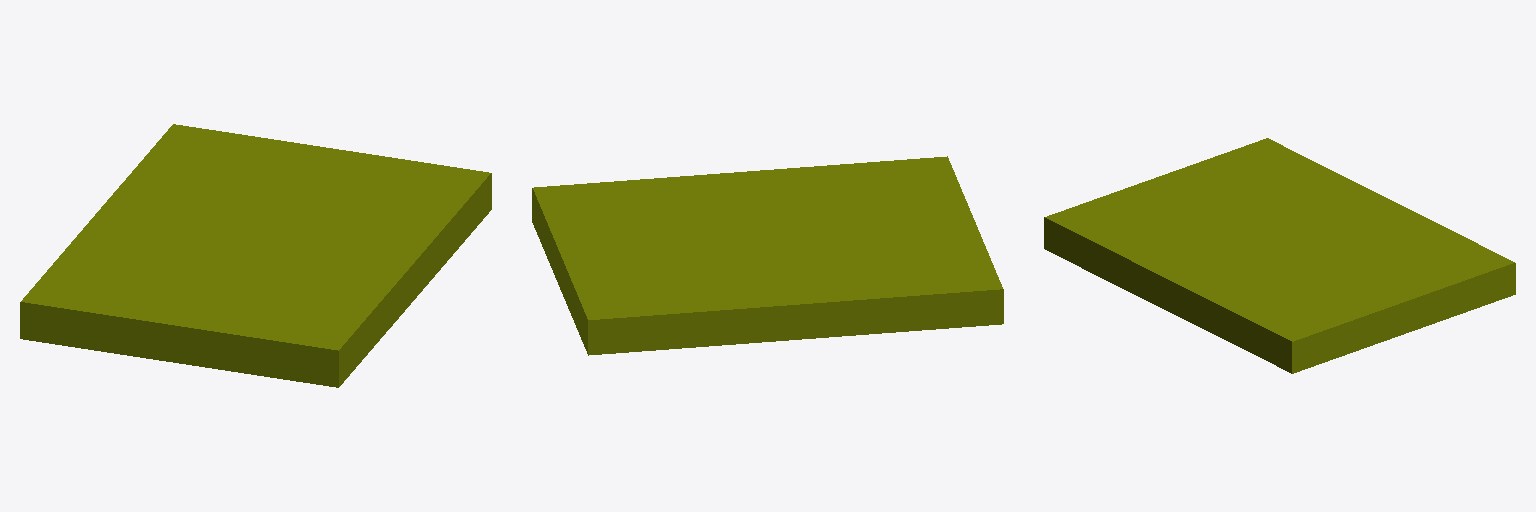
URDF robot description (Interference):
<?xml version="1.0"?>
<robot name="Interference">
  <link name="baseLink">
    <inertial>
      <origin xyz="0.0 0.0 0.0" rpy="0.0 0.0 0.0"/>
      <inertia ixx="0.0" ixy="0.0" ixz="0.0" iyy="0.0" iyz="0.0" izz="0.0"/>
      <mass value="0"/>
    </inertial>
    <visual>
      <origin xyz="0.0 0.0 0.0" rpy="0.0 0.0 0.6991979613213393"/>
      <geometry>
        <box size="0.10867534020664438 0.08221715392471396 0.01"/>
      </geometry>
      <material name="color">
        <color rgba="0.5053378978688773 0.5502416154008971 0.059070699186840714 1.0"/>
      </material>
    </visual>
  </link>
</robot>

--- Facts derived from the render (not from the file) ---
The picture shows the robot from 3 angles, left to right: view 1: azimuth 30°, elevation 25°; view 2: azimuth 150°, elevation 25°; view 3: azimuth 270°, elevation 25°; orthographic projection.
Robot: Interference — 1 links, 0 joints (none); root link baseLink; default pose: all joints at 0.
Links seen in each view (by area): view 1: baseLink; view 2: baseLink; view 3: baseLink.
Boxes of the visible links, x1,y1,x2,y2 form: baseLink: [20, 124, 491, 387]; baseLink: [532, 156, 1003, 355]; baseLink: [1044, 138, 1515, 373].
Size in the robot's own frame: 0.1361 by 0.1329 by 0.01 metres.
Geometry: primitives only (box / cylinder / sphere), no mesh files.